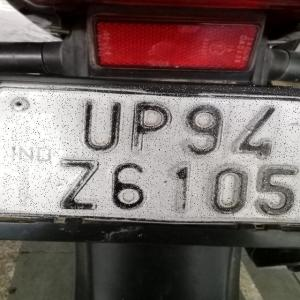Plate: (3, 86, 300, 219)
